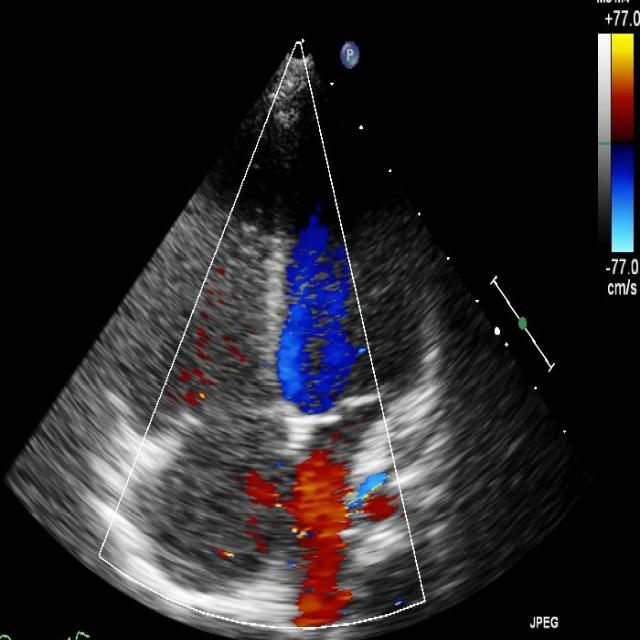ASDType2: (246, 476, 363, 516)
